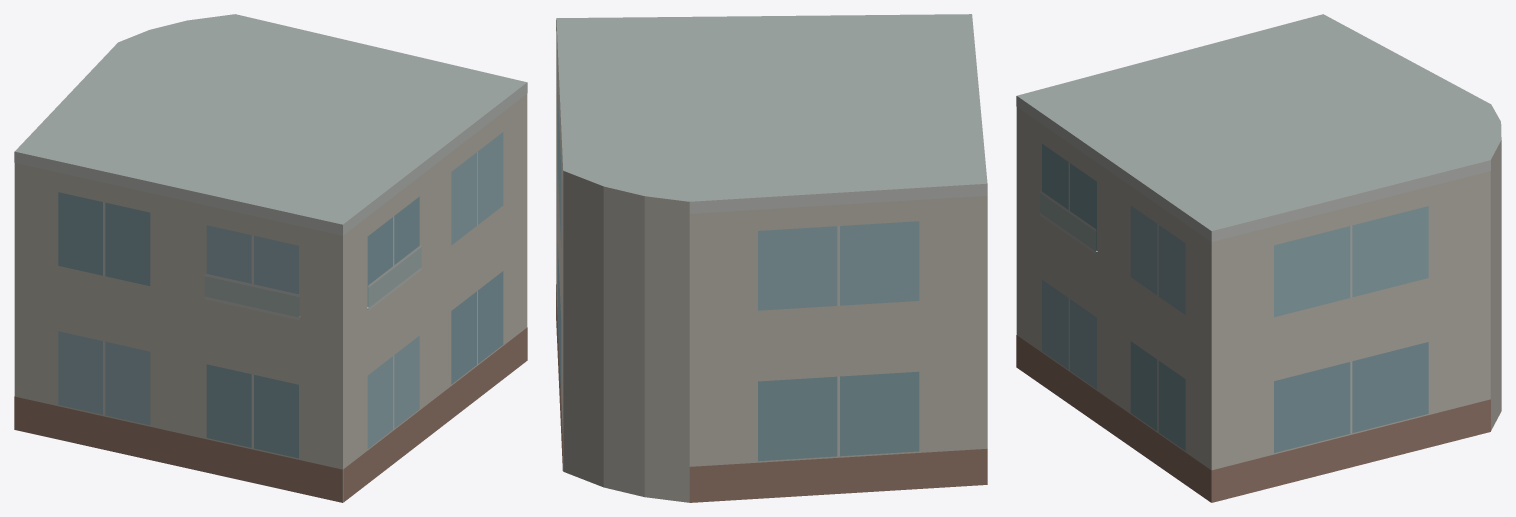
The model's file is survey-upis-32958148.glb.
3 views of the same model, side by side, from view 1: azimuth 30°, elevation 25°; view 2: azimuth 150°, elevation 25°; view 3: azimuth 270°, elevation 25° (orthographic). The views are drawn at different scales.
Visible parts, largest first — view 1: survey-upis-32958148.tmp; view 2: survey-upis-32958148.tmp; view 3: survey-upis-32958148.tmp.
Boxes of the visible parts, x1,y1,x2,y2 form: survey-upis-32958148.tmp: [14, 14, 527, 502]; survey-upis-32958148.tmp: [556, 14, 987, 502]; survey-upis-32958148.tmp: [1016, 14, 1501, 502].
Bounding box in the file's own units: 10.47 × 6.1 × 9.87.
